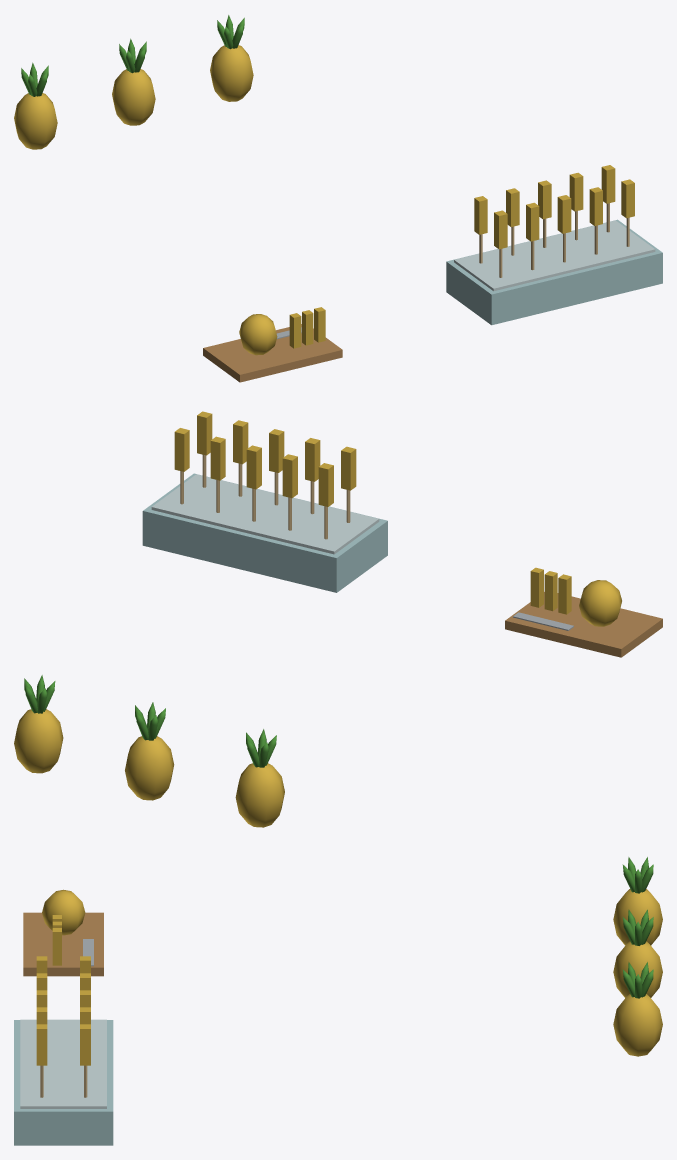
File: goods_pine.glb
The picture shows the model from 3 angles, top to bottom: view 1: azimuth 30°, elevation 25°; view 2: azimuth 150°, elevation 25°; view 3: azimuth 270°, elevation 25°; orthographic projection. The views are drawn at different scales.
Visible parts, largest first — view 1: goods_pine; view 2: goods_pine; view 3: goods_pine.
Boxes of the visible parts, bbox=[...] form: goods_pine: bbox=[14, 15, 662, 382]; goods_pine: bbox=[14, 411, 662, 827]; goods_pine: bbox=[14, 857, 662, 1145].
Size of the model in its own units: 1.71 by 0.38 by 2.09.
